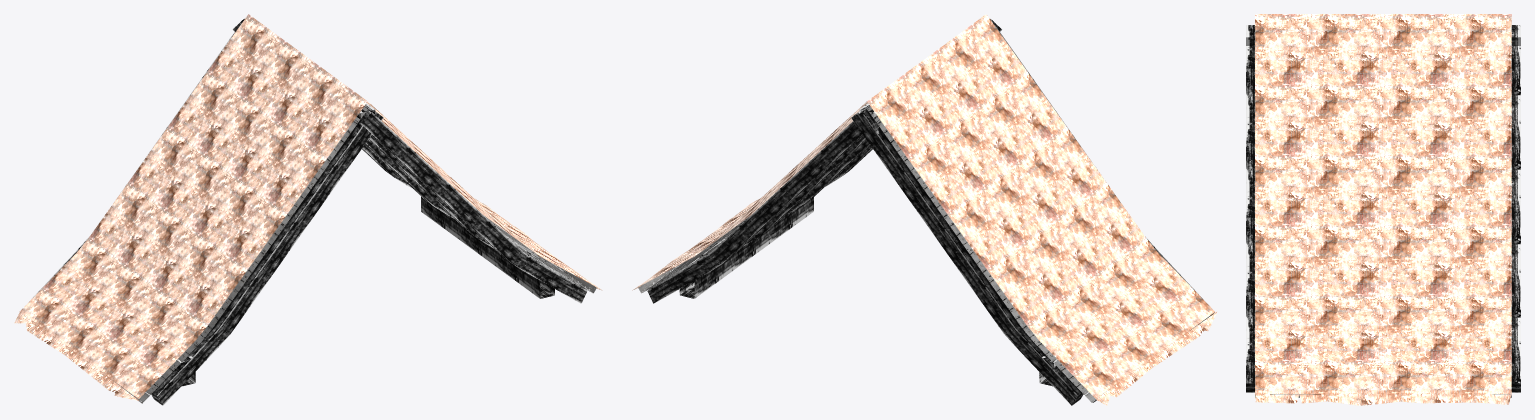
Rendered from SM_roof_B_part_02_01.fbx.
3 views of the same model, side by side, from view 1: azimuth 30°, elevation 25°; view 2: azimuth 150°, elevation 25°; view 3: azimuth 270°, elevation 25° (orthographic). The views are drawn at different scales.
Parts seen in each view (by area): view 1: SM_roof_B_part_02_01_LOD0; view 2: SM_roof_B_part_02_01_LOD0; view 3: SM_roof_B_part_02_01_LOD0.
Part boxes in pixels (<box>): SM_roof_B_part_02_01_LOD0: <box>14,14,602,405</box>; SM_roof_B_part_02_01_LOD0: <box>632,14,1216,405</box>; SM_roof_B_part_02_01_LOD0: <box>1246,14,1520,405</box>.
Bounding box in the file's own units: 1607 × 750 × 810.
Materials: 4 (4 with a texture image).
